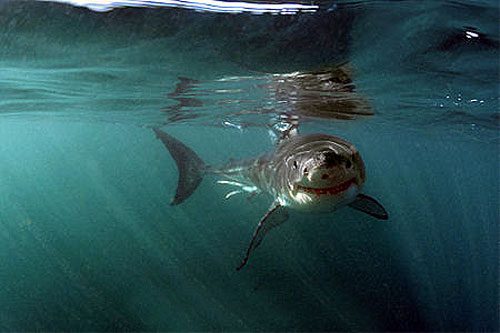Carcharodon_carcharias: (141, 116, 419, 268)
